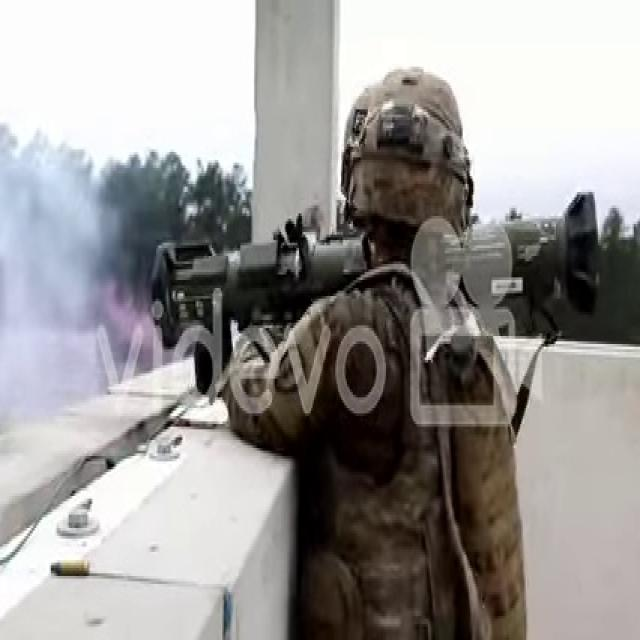bazooka: (147, 187, 605, 356)
